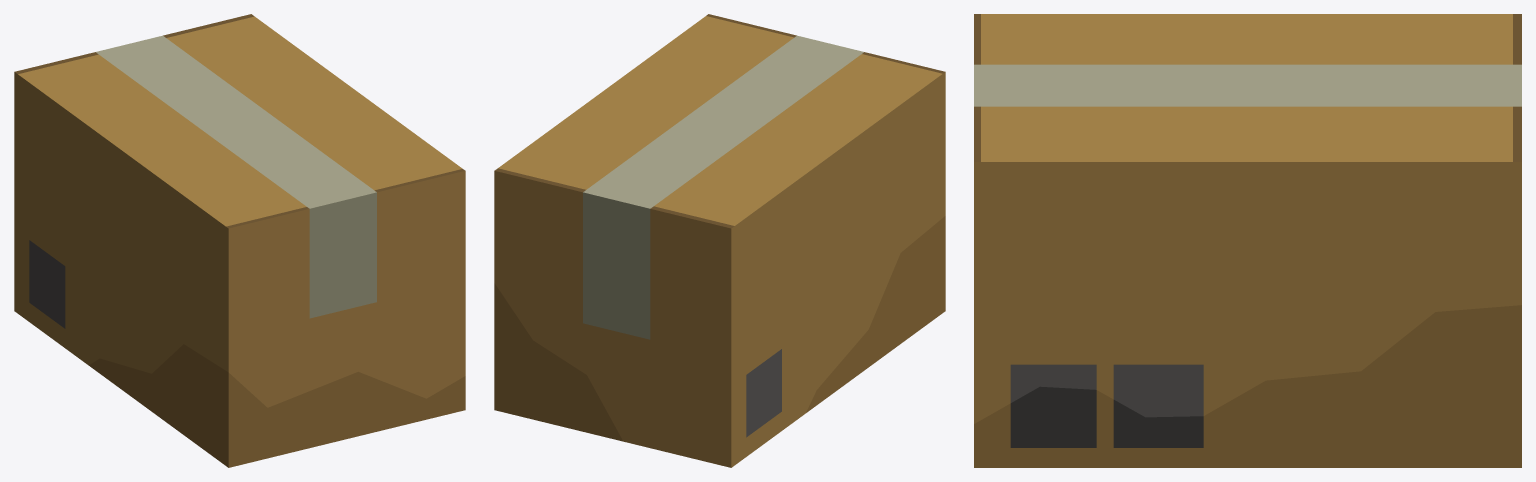
Rendered from AI_Prop_CarboardBox_01.fbx.
The picture shows the model from 3 angles, left to right: view 1: azimuth 30°, elevation 25°; view 2: azimuth 150°, elevation 25°; view 3: azimuth 270°, elevation 25°; orthographic projection. The views are drawn at different scales.
Parts seen in each view (by area): view 1: AI_Prop_CarboardBox_01; view 2: AI_Prop_CarboardBox_01; view 3: AI_Prop_CarboardBox_01.
Boxes of the visible parts, x1=… form: AI_Prop_CarboardBox_01: x1=14, y1=14, x2=465, y2=467; AI_Prop_CarboardBox_01: x1=494, y1=14, x2=945, y2=467; AI_Prop_CarboardBox_01: x1=974, y1=14, x2=1521, y2=467.
Size of the model in its own units: 0.6621 by 0.6393 by 1.04.
